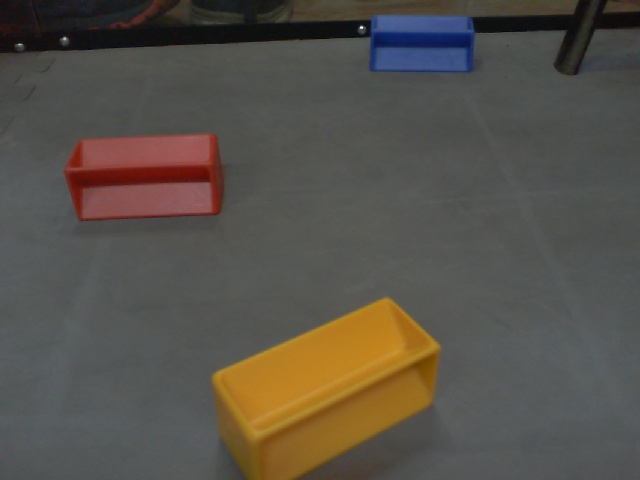BlueSample: (367, 14, 476, 74)
RedSample: (62, 132, 225, 221)
YellowSample: (206, 294, 444, 480)
